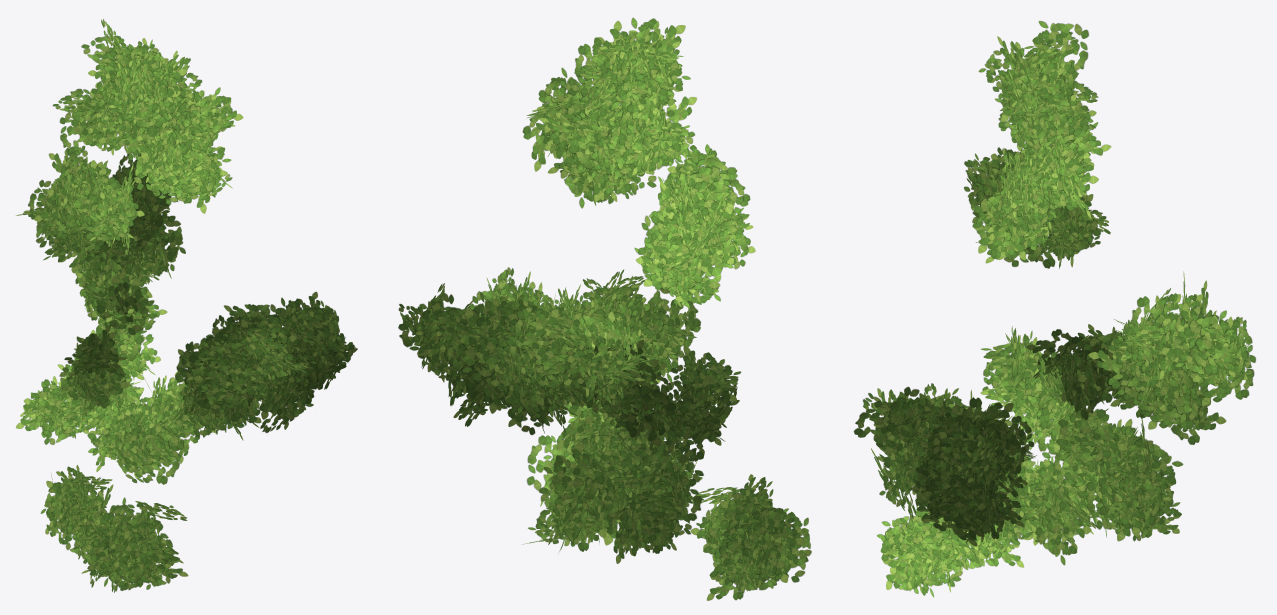
File: birch1_leaves.glb
3 views of the same model, side by side, from view 1: azimuth 30°, elevation 25°; view 2: azimuth 150°, elevation 25°; view 3: azimuth 270°, elevation 25° (orthographic). The views are drawn at different scales.
Parts seen in each view (by area): view 1: leaves; view 2: leaves; view 3: leaves.
Part boxes in pixels (box(x1,y1,x2,y2)): leaves: box(16, 19, 357, 592); leaves: box(398, 17, 811, 600); leaves: box(854, 21, 1255, 597).
Bounding box in the file's own units: 5.53 × 9.08 × 5.75.
Materials: 1 (1 with a texture image).
